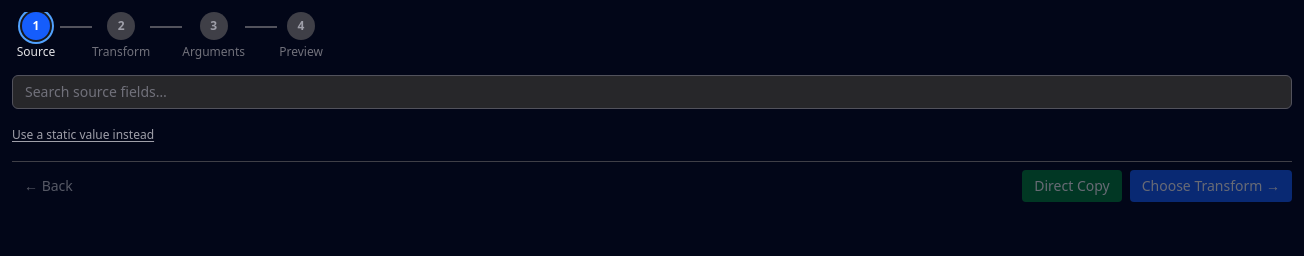
Test: GuidedBuilder — static value mode › switching to static mode shows static value input
This screenshot has width=1304, height=256.
What coordinates should you click on to do the following:
click the button "Use a static value instead"
I would click on:
 (83, 135)
Its box is [12, 127, 154, 143].
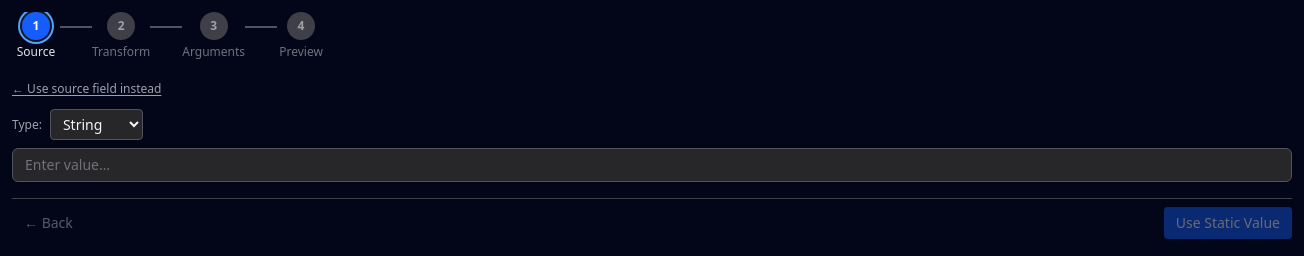
Now the dropdown named "Static value type" is shown, box [50, 109, 143, 140]
